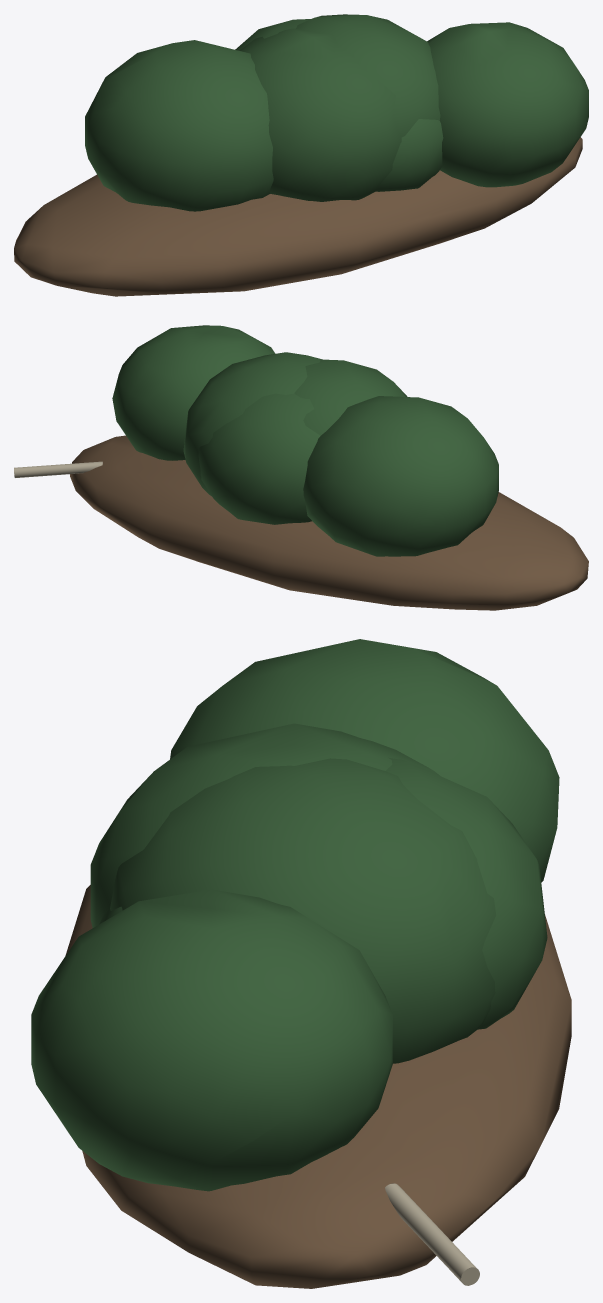
Rendered from f16-island-wooded.lod1.glb.
3 views of the same model, one above another, from view 1: azimuth 30°, elevation 25°; view 2: azimuth 150°, elevation 25°; view 3: azimuth 270°, elevation 25° (orthographic). The views are drawn at different scales.
Visible parts, largest first — view 1: part0, part2, part3, part5, part4, part6, part1; view 2: part0, part2, part1, part3, part4, part5, part7; view 3: part3, part0, part4, part2, part5, part1, part7.
Boxes of the visible parts, x1=… form: part0: x1=14, y1=137, x2=582, y2=296; part2: x1=85, y1=40, x2=273, y2=211; part3: x1=427, y1=22, x2=588, y2=187; part5: x1=239, y1=28, x2=401, y2=201; part4: x1=296, y1=14, x2=440, y2=137; part6: x1=376, y1=119, x2=443, y2=191; part1: x1=235, y1=19, x2=310, y2=50; part0: x1=70, y1=435, x2=588, y2=610; part2: x1=303, y1=396, x2=498, y2=556; part1: x1=198, y1=393, x2=320, y2=524; part3: x1=112, y1=325, x2=275, y2=460; part4: x1=183, y1=352, x2=322, y2=496; part5: x1=294, y1=359, x2=407, y2=435; part7: x1=14, y1=461, x2=102, y2=477; part3: x1=31, y1=889, x2=392, y2=1191; part0: x1=65, y1=885, x2=571, y2=1288; part4: x1=110, y1=758, x2=496, y2=1063; part2: x1=170, y1=639, x2=559, y2=882; part5: x1=90, y1=723, x2=439, y2=927; part1: x1=386, y1=757, x2=547, y2=1029; part7: x1=385, y1=1183, x2=479, y2=1285.
Bounding box in the file's own units: 46094 × 16267 × 20421.
